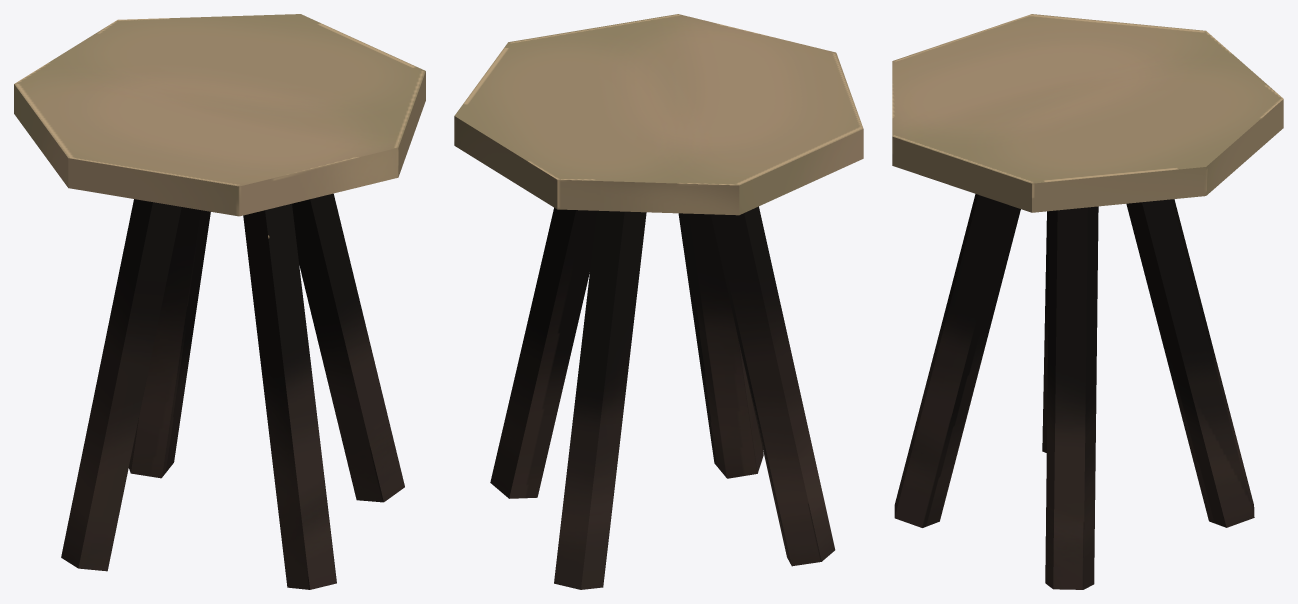
The model's file is cafestool.fbx.
The picture shows the model from 3 angles, left to right: view 1: azimuth 30°, elevation 25°; view 2: azimuth 150°, elevation 25°; view 3: azimuth 270°, elevation 25°; orthographic projection. The views are drawn at different scales.
Visible parts, largest first — view 1: Cylinder.005; view 2: Cylinder.005; view 3: Cylinder.005.
Boxes of the visible parts, bbox=[...] form: Cylinder.005: bbox=[14, 14, 425, 589]; Cylinder.005: bbox=[454, 14, 863, 589]; Cylinder.005: bbox=[892, 14, 1283, 589].
Bounding box in the file's own units: 62.4 × 72.01 × 60.83.
